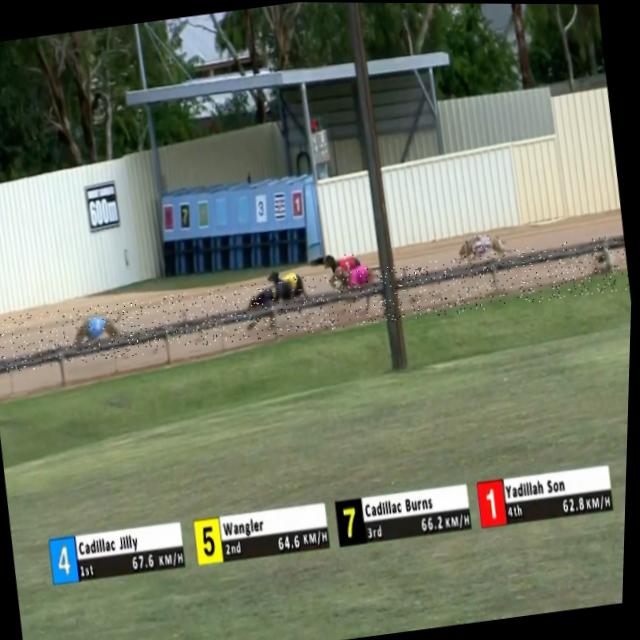dog_eight: (351, 264, 371, 292)
dog_five: (284, 272, 301, 293)
dog_four: (89, 315, 113, 341)
dog_one: (340, 253, 358, 278)
dog_seven: (266, 284, 282, 304)
dog_two: (472, 233, 495, 255)
rail: (0, 234, 627, 374)
